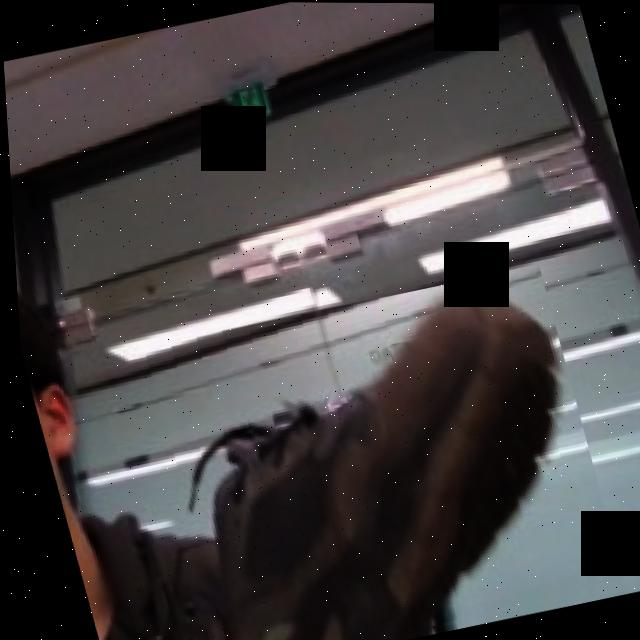shoe: (121, 261, 623, 640)
